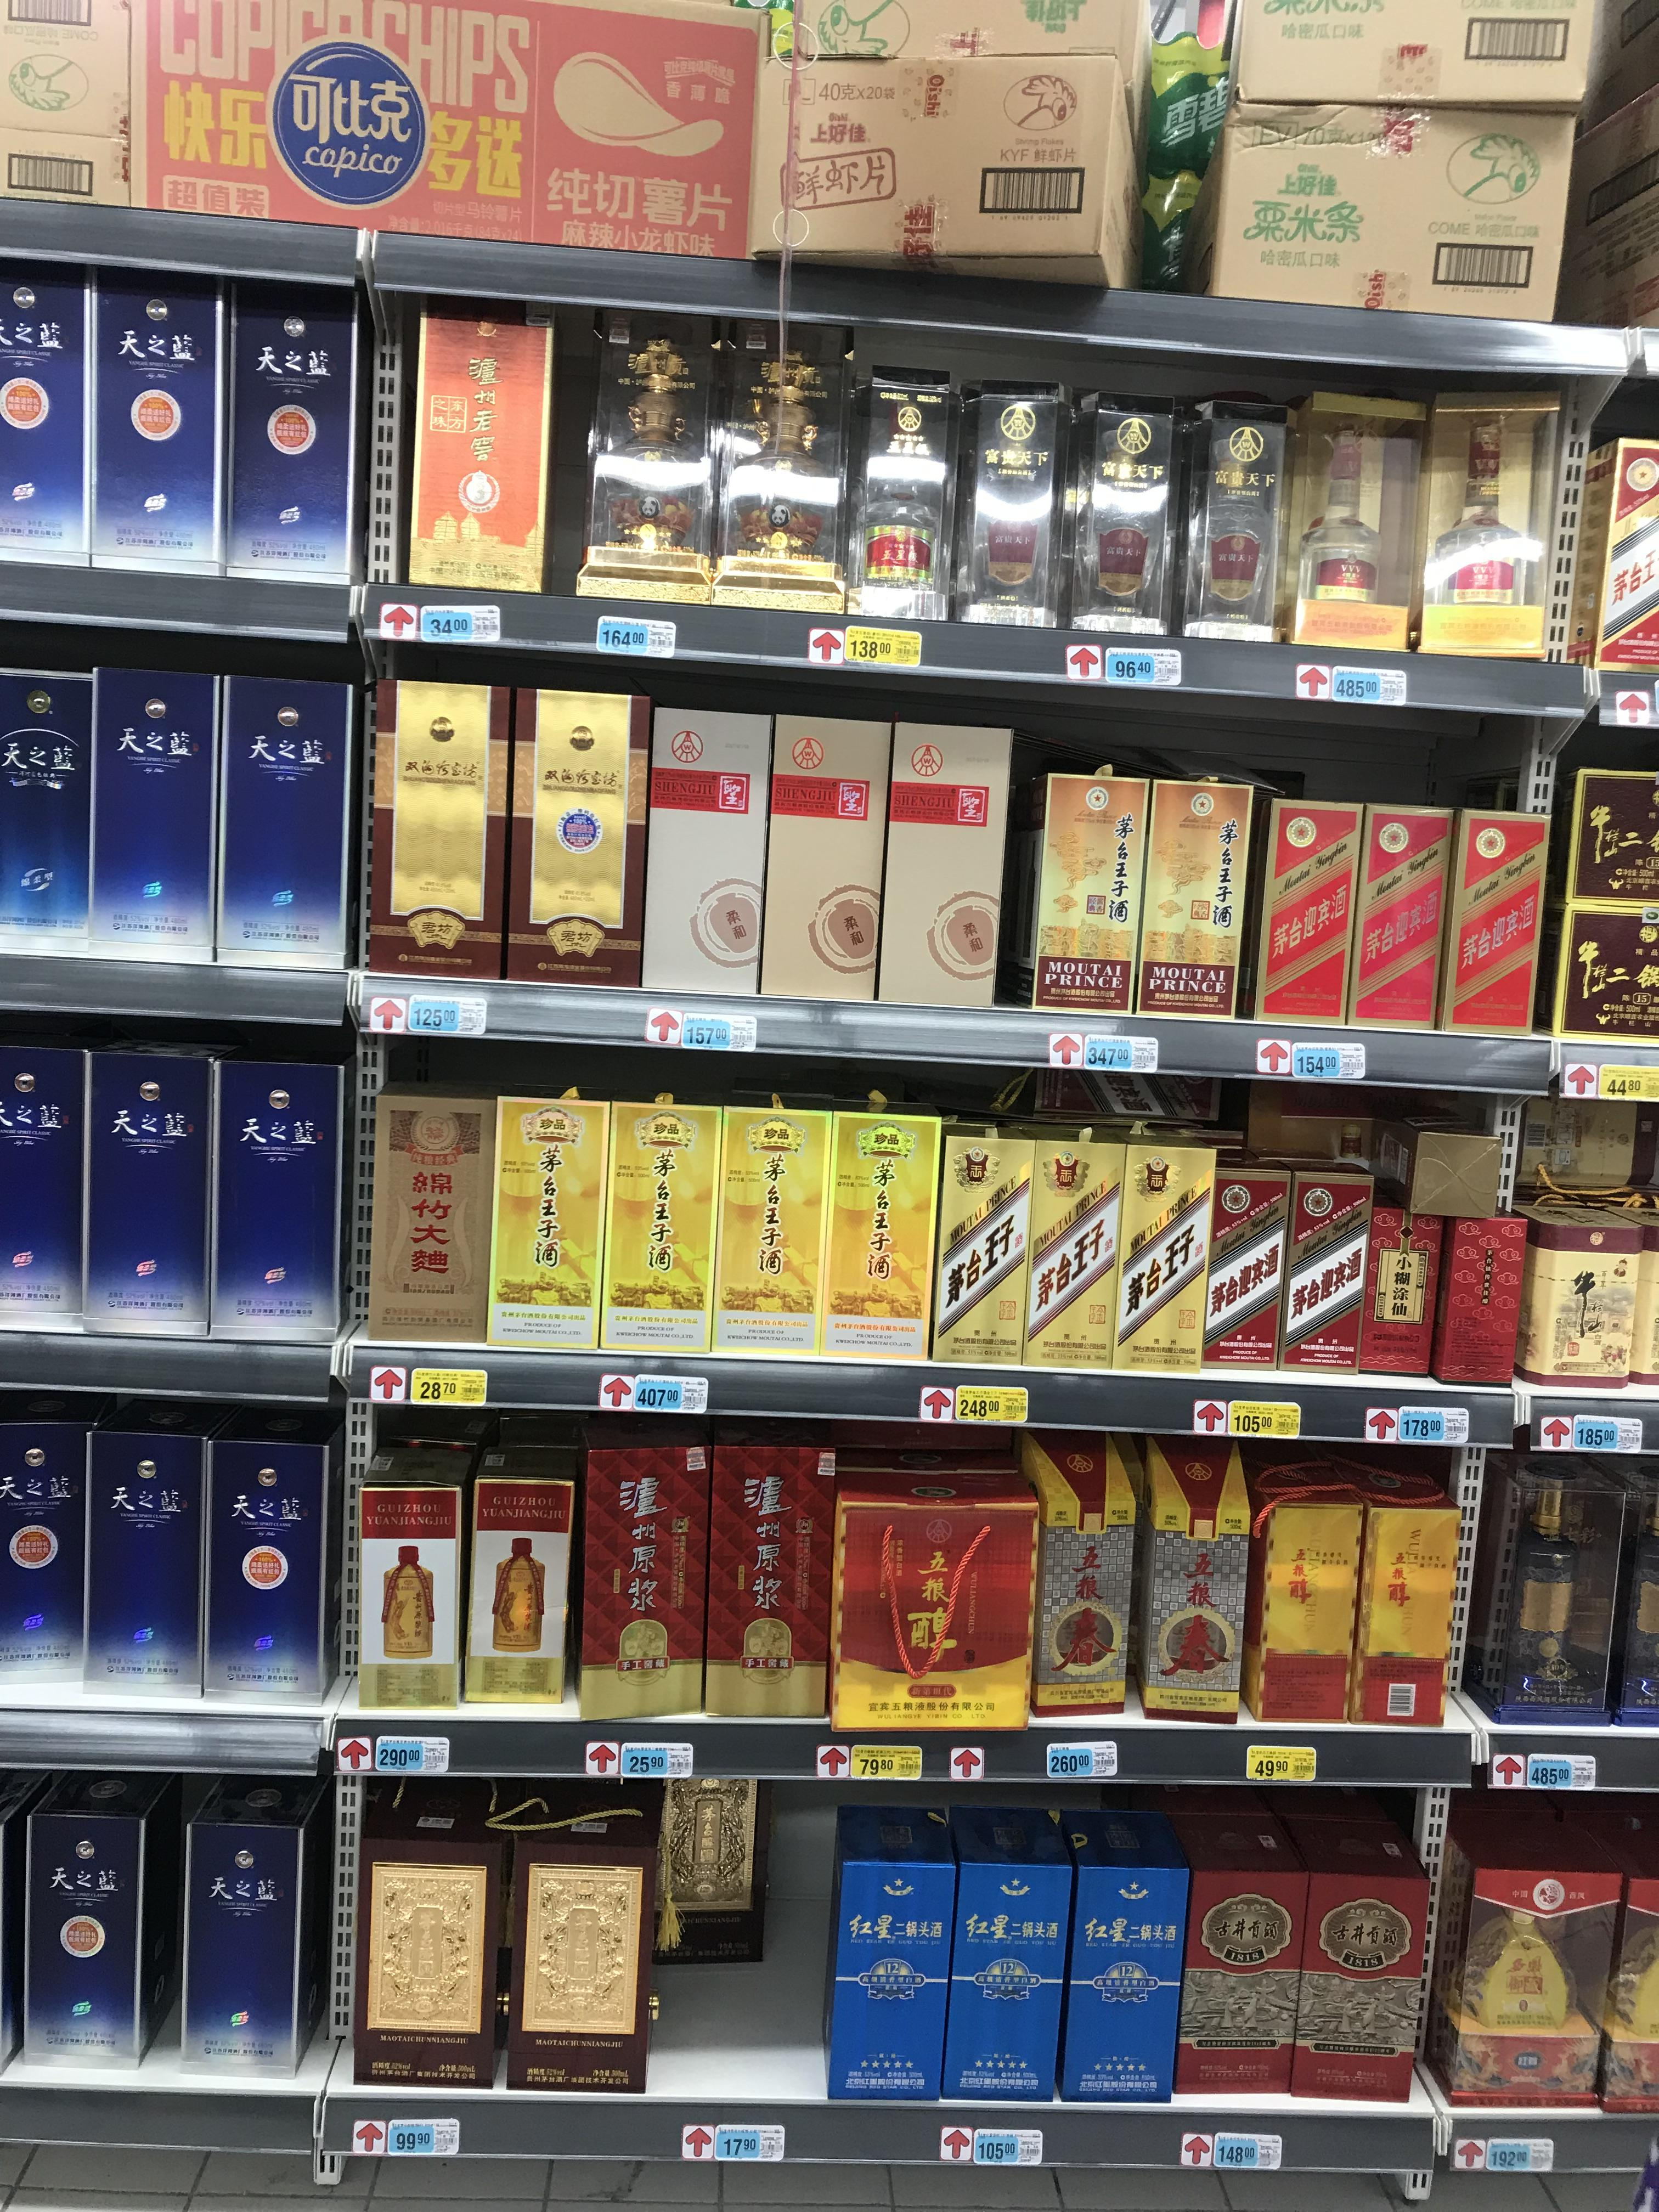bag: (831, 1475, 1039, 1717), (221, 265, 380, 580), (938, 1792, 1079, 2102), (1152, 1792, 1300, 2083), (1279, 1825, 1434, 2102), (823, 1801, 953, 2102), (1236, 1426, 1366, 1719), (1056, 1810, 1185, 2106), (1011, 1414, 1131, 1712), (1140, 1414, 1249, 1714), (1349, 1440, 1467, 1712), (1560, 712, 1659, 1036), (1480, 1461, 1579, 1721), (725, 409, 840, 592), (957, 411, 1054, 622), (1586, 1463, 1657, 1721), (847, 453, 943, 613), (1595, 1876, 1657, 2114)
bottle: (16, 1742, 164, 2060), (174, 1745, 312, 2066), (0, 662, 85, 942)
box: (1425, 1796, 1612, 2113), (206, 644, 359, 970), (85, 263, 232, 583), (202, 1404, 347, 1719), (87, 655, 227, 972), (92, 1029, 227, 1350), (359, 676, 497, 986), (218, 1045, 356, 1345), (695, 1437, 840, 1721), (502, 688, 638, 989), (343, 1811, 491, 2087), (577, 1430, 720, 1714), (3, 1400, 122, 1730), (758, 707, 890, 1000), (878, 716, 1009, 1010), (96, 1397, 209, 1719), (789, 1104, 936, 1352), (641, 700, 765, 989), (502, 1831, 640, 2087), (0, 1022, 110, 1343), (361, 1094, 500, 1332), (1006, 1082, 1126, 1357), (5, 254, 105, 578), (1025, 765, 1150, 1014), (1133, 775, 1260, 1017), (1439, 791, 1563, 1036), (701, 1104, 828, 1341), (920, 1099, 1037, 1357), (347, 1447, 465, 1698), (488, 1099, 610, 1336), (1255, 798, 1382, 1024), (1518, 1184, 1659, 1381), (465, 1449, 575, 1702), (1103, 1136, 1225, 1362), (1347, 798, 1467, 1026), (599, 1103, 714, 1338), (1340, 1139, 1446, 1381), (1082, 395, 1180, 631), (1190, 394, 1277, 643), (657, 1775, 765, 1966), (1425, 1181, 1521, 1386), (1190, 1179, 1295, 1367), (1274, 1169, 1361, 1369), (1598, 2101, 1603, 2113)
others: (1183, 61, 1605, 347), (770, 3, 1195, 275)
